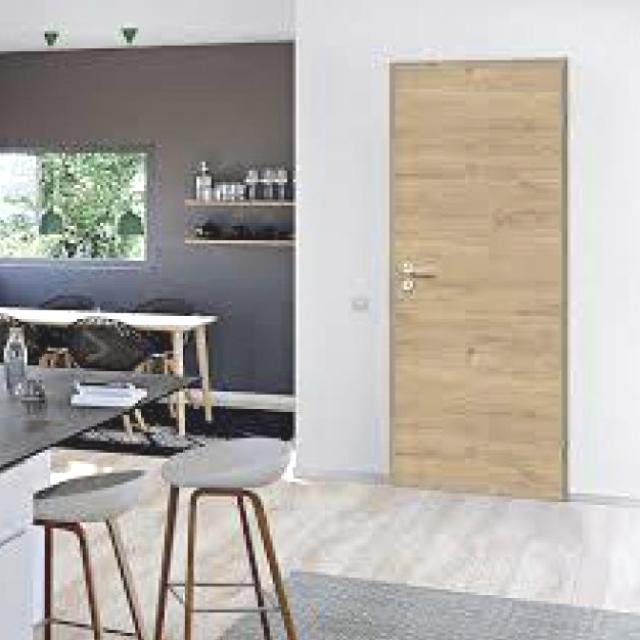door: (387, 57, 567, 499)
